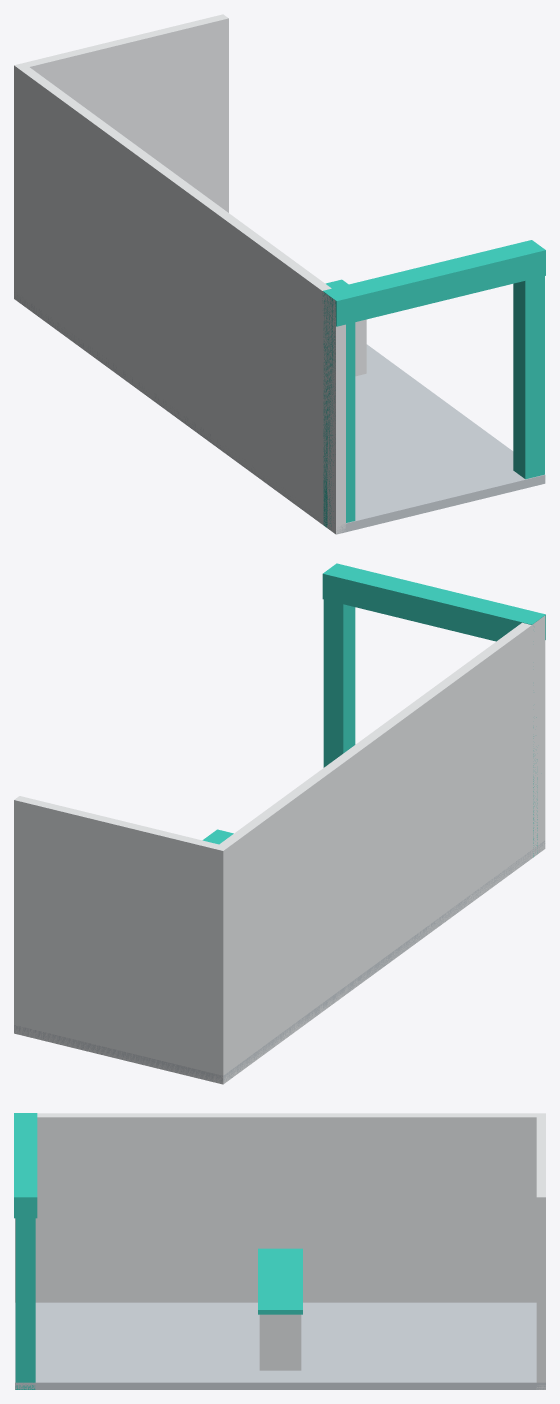
3 renders of one model, top to bottom at view 1: azimuth 30°, elevation 25°; view 2: azimuth 150°, elevation 25°; view 3: azimuth 270°, elevation 25°, orthographic. The views are drawn at different scales.
Parts seen in each view (by area): view 1: Exhibition Booth Concept; view 2: Exhibition Booth Concept; view 3: Exhibition Booth Concept.
Boxes of the visible parts, bbox=[...] form: Exhibition Booth Concept: bbox=[14, 14, 545, 534]; Exhibition Booth Concept: bbox=[14, 563, 545, 1084]; Exhibition Booth Concept: bbox=[14, 1113, 545, 1389].
Size of the model in its own units: 3 by 3.2 by 8.01.
